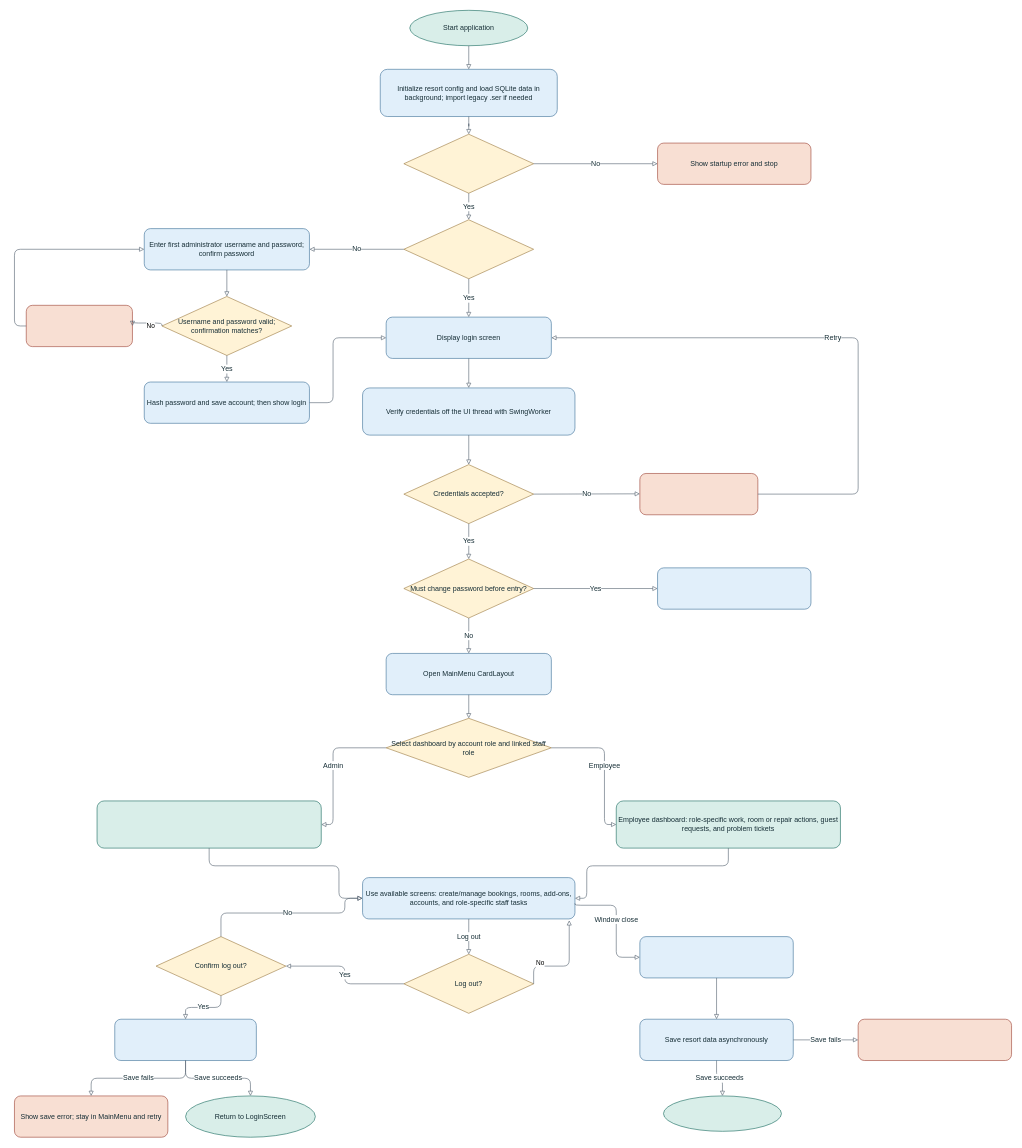
The diagram is 1022 pixels wide and 1148 high, and some of its shapes have lost their labels. The centre of each missing label's shape, as x and y in pixels:
"Accounts exist?" belongs at pixel 468 249.
"Admin dashboard: bookings, rooms, add-ons, staff, and account management" belongs at pixel 208 824.
"Application closed" belongs at pixel 722 1113.
"Close MainMenu window" belongs at pixel 716 957.
"Save changes before returning to LoginScreen" belongs at pixel 185 1040.
"Set and save new password (minimum 8 characters)" belongs at pixel 734 588.
"Show login error; allow retry" belongs at pixel 698 494.
"Show save error; keep window open" belongs at pixel 935 1040.
"Show validation error" belongs at pixel 79 326.
"Startup successful?" belongs at pixel 468 163.
